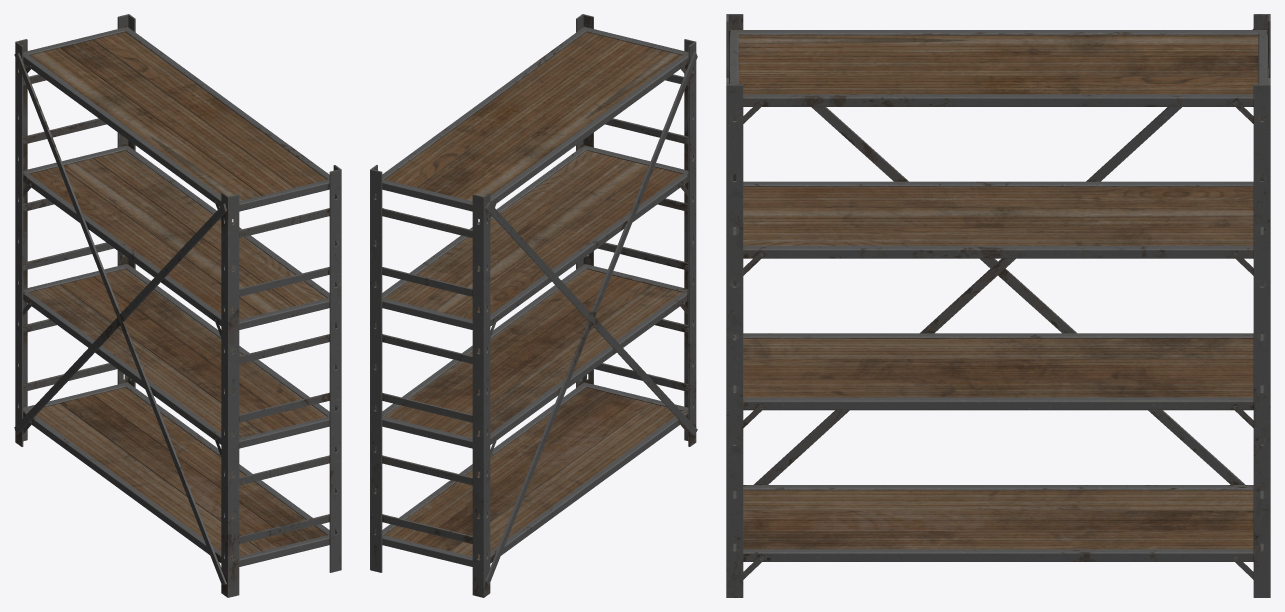
Rendered from 1_Shelf.fbx.
3 renders of one model, left to right at view 1: azimuth 30°, elevation 25°; view 2: azimuth 150°, elevation 25°; view 3: azimuth 270°, elevation 25°, orthographic. The views are drawn at different scales.
Visible parts, largest first — view 1: Shelf.004; view 2: Shelf.004; view 3: Shelf.004.
Part boxes in pixels (bbox=[...]): Shelf.004: bbox=[14, 14, 341, 597]; Shelf.004: bbox=[370, 14, 697, 597]; Shelf.004: bbox=[726, 14, 1270, 597].
Bounding box in the file's own units: 54.55 × 180 × 173.
1 material, 1 textured.
